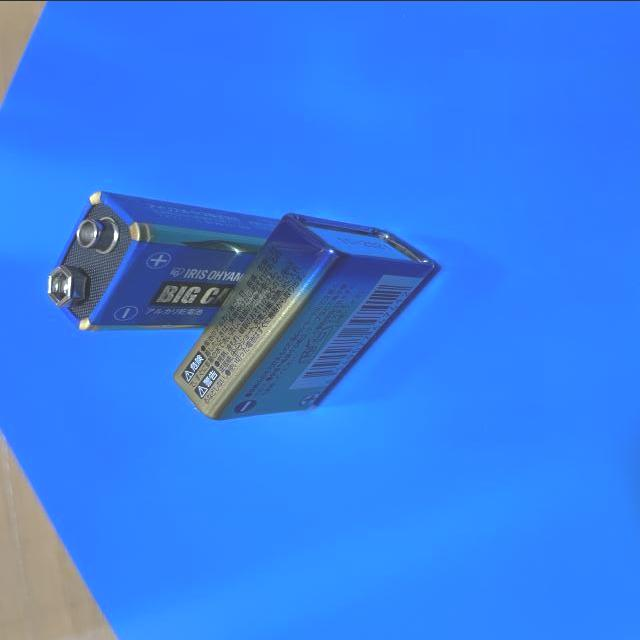9V: (174, 210, 439, 420), (48, 189, 286, 329)
